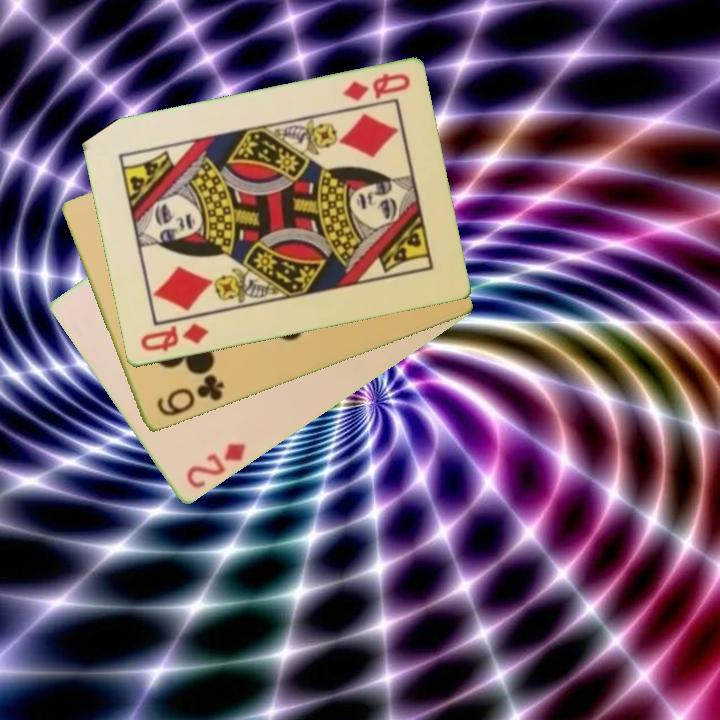2d: (182, 440, 249, 492)
6c: (153, 371, 227, 420)
Qd: (136, 320, 211, 355), (339, 70, 413, 105)
